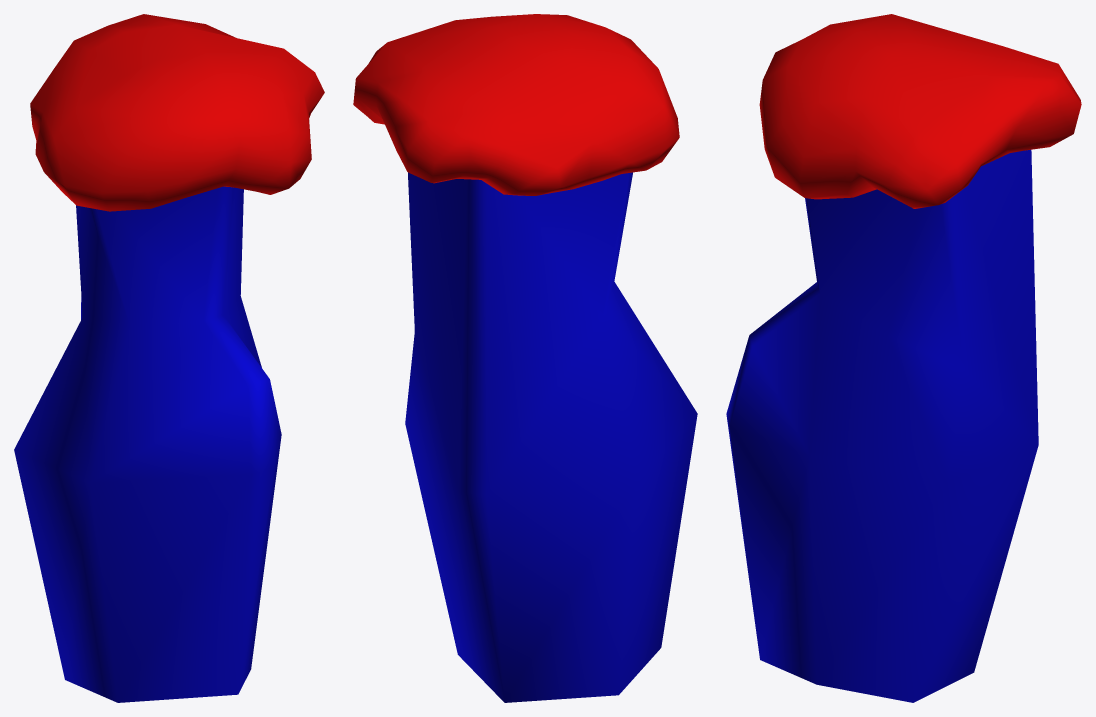
File: BeachHoodoo_0.glb
3 renders of one model, left to right at view 1: azimuth 30°, elevation 25°; view 2: azimuth 150°, elevation 25°; view 3: azimuth 270°, elevation 25°, orthographic. The views are drawn at different scales.
Parts seen in each view (by area): view 1: BeachHoodoo; view 2: BeachHoodoo; view 3: BeachHoodoo.
Boxes of the visible parts, x1=… form: BeachHoodoo: x1=14, y1=14, x2=324, y2=702; BeachHoodoo: x1=353, y1=14, x2=697, y2=702; BeachHoodoo: x1=726, y1=14, x2=1081, y2=702.
Size of the model in its own units: 3.46 by 7.17 by 3.6.
